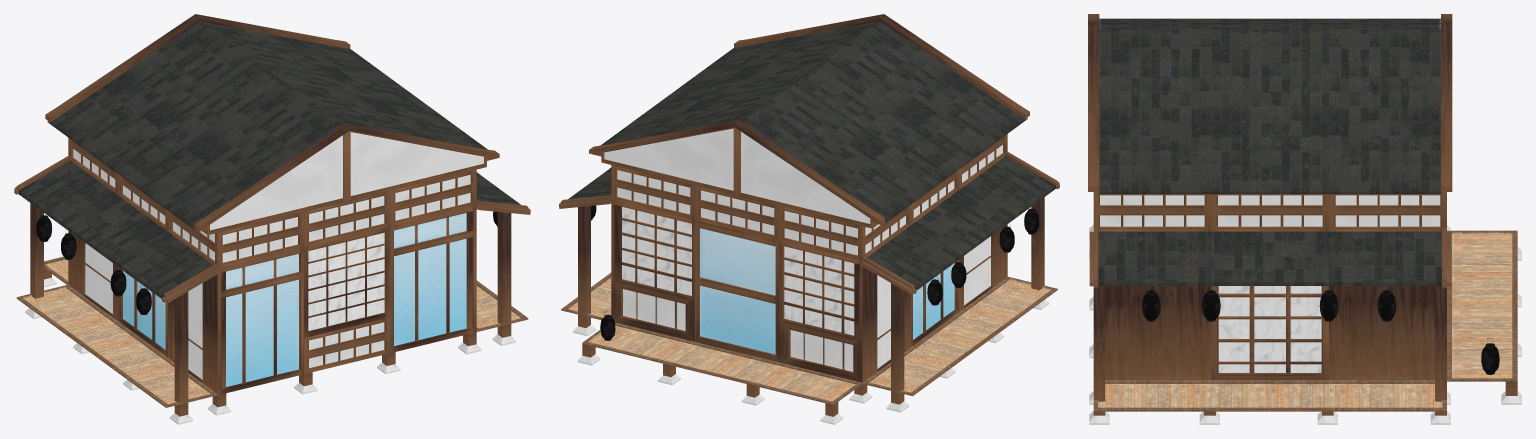
Rendered from house-janab.glb.
The picture shows the model from 3 angles, left to right: view 1: azimuth 30°, elevation 25°; view 2: azimuth 150°, elevation 25°; view 3: azimuth 270°, elevation 25°; orthographic projection. The views are drawn at different scales.
Visible parts, largest first — view 1: JPHouse2_low_MAT_JPHouse_0; view 2: JPHouse2_low_MAT_JPHouse_0; view 3: JPHouse2_low_MAT_JPHouse_0.
Boxes of the visible parts, left/top/right/bottom form: JPHouse2_low_MAT_JPHouse_0: left=14, top=14, right=530, bottom=424; JPHouse2_low_MAT_JPHouse_0: left=559, top=14, right=1059, bottom=424; JPHouse2_low_MAT_JPHouse_0: left=1088, top=14, right=1521, bottom=424.
Bounding box in the file's own units: 6.7 × 4.44 × 5.75.
1 material, 1 textured.
